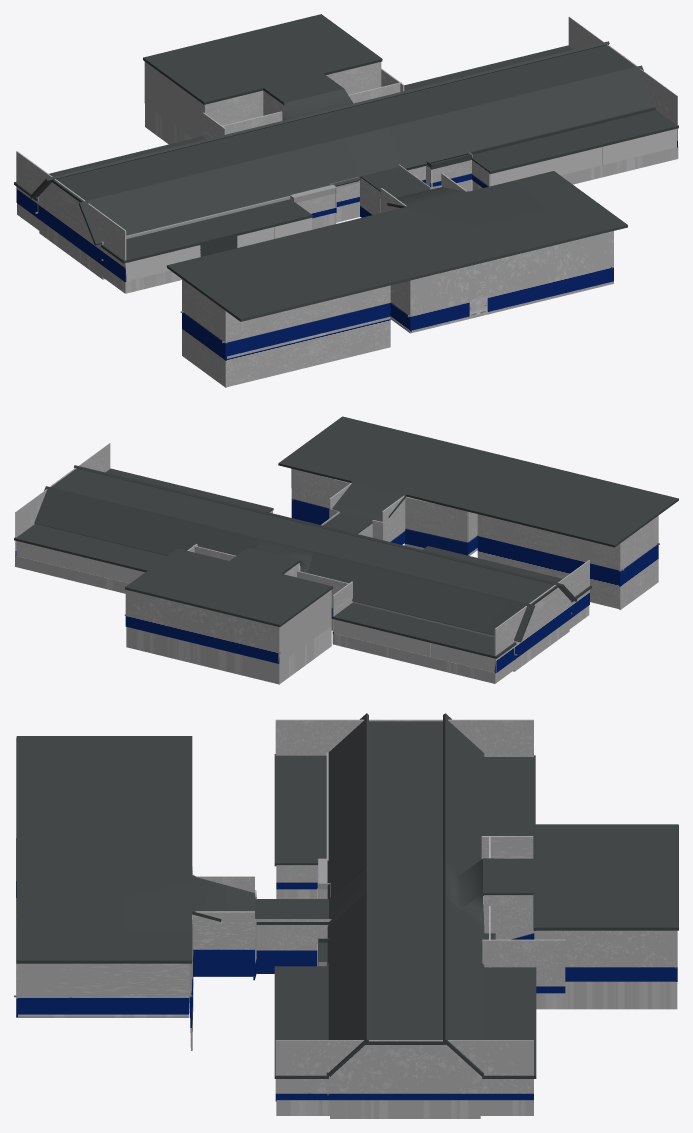
The model's file is facility exp 1.fbx.
3 views of the same model, one above another, from view 1: azimuth 30°, elevation 25°; view 2: azimuth 150°, elevation 25°; view 3: azimuth 270°, elevation 25° (orthographic). The views are drawn at different scales.
Visible parts, largest first — view 1: polySurface322; view 2: polySurface322; view 3: polySurface322.
Part boxes in pixels (left/top/right/bottom): polySurface322: left=14, top=14, right=678, bottom=387; polySurface322: left=14, top=416, right=678, bottom=684; polySurface322: left=14, top=713, right=678, bottom=1118.
Bounding box in the file's own units: 242 × 40.08 × 208.
